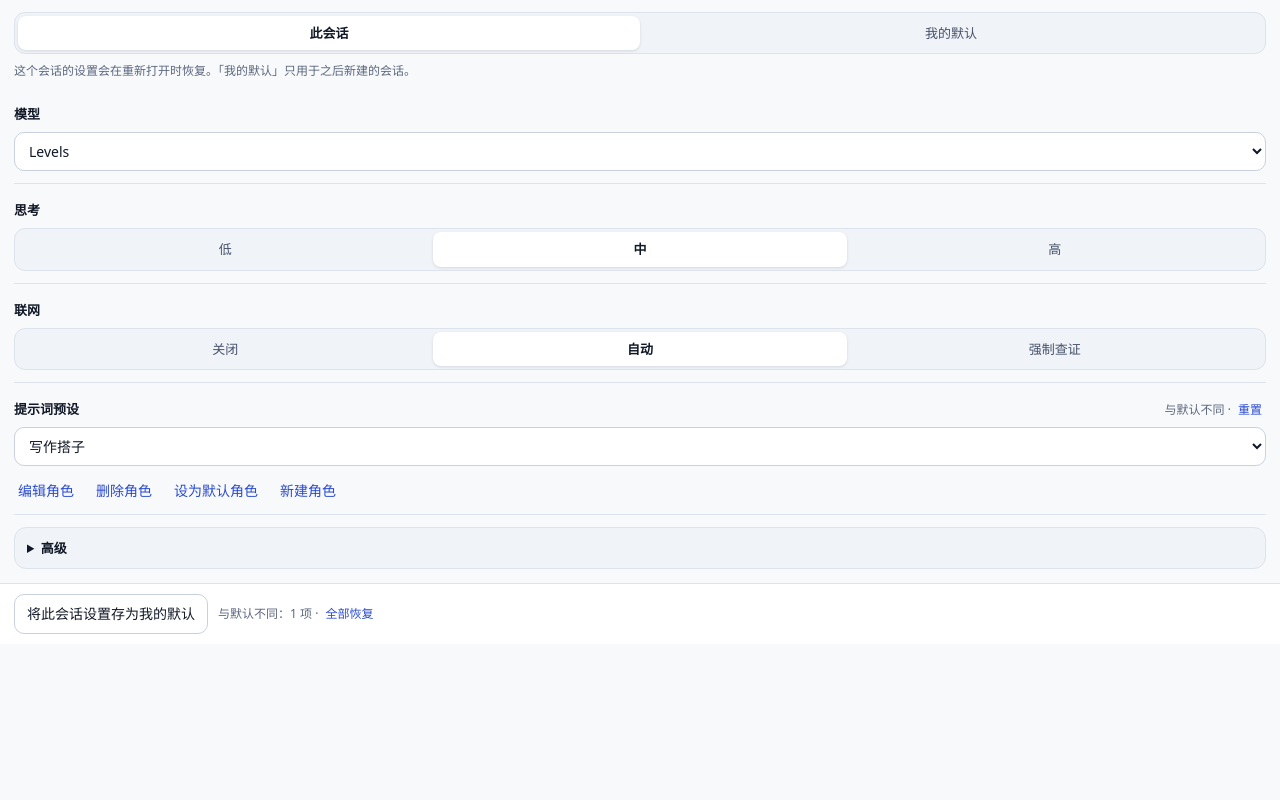
SettingsPanel › deleting a role leaves the conversation's prompt in place as a custom prompt
Click the button "删除角色".
click(124, 491)  # box [92,480,156,502]
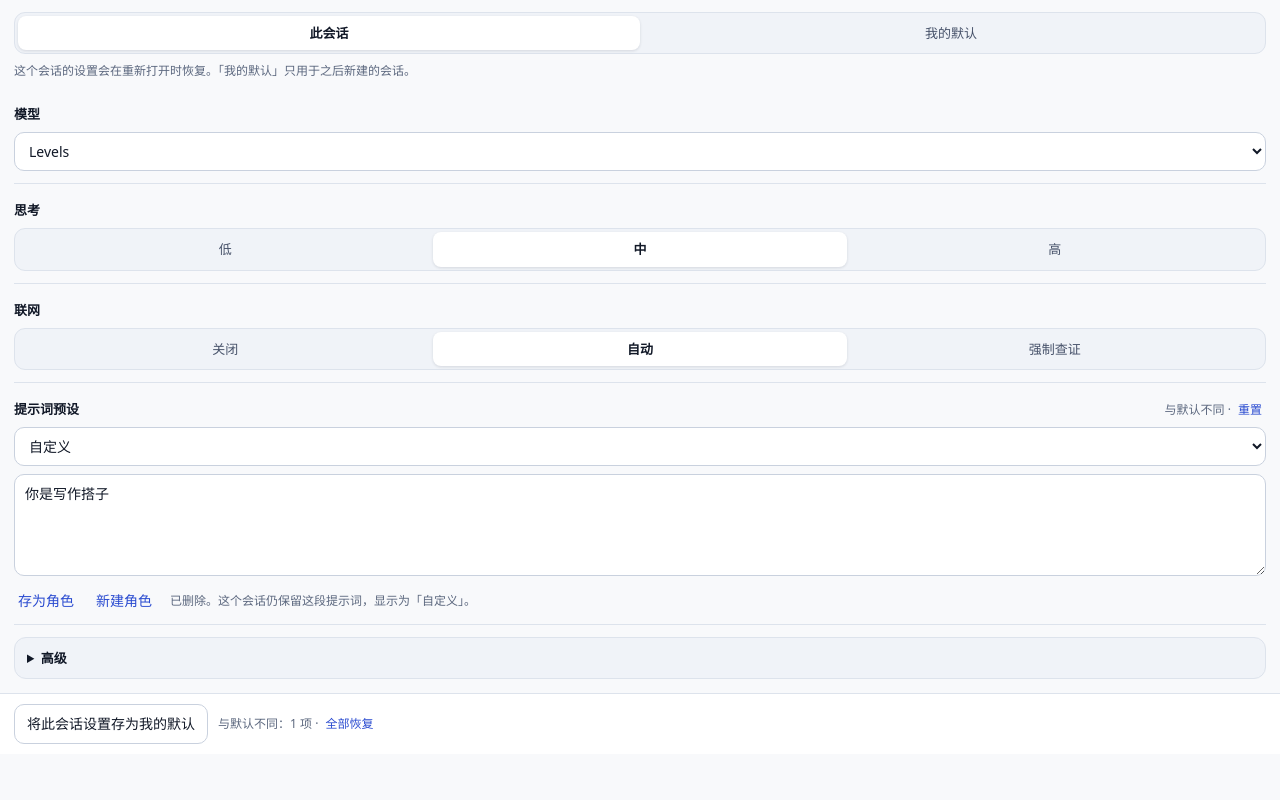
Expected: the text box named "自定义提示词" holds "你是写作搭子", [14,474,1266,576]
Expected: the dropdown named "提示词预设" shows "自定义", [14,427,1266,466]
